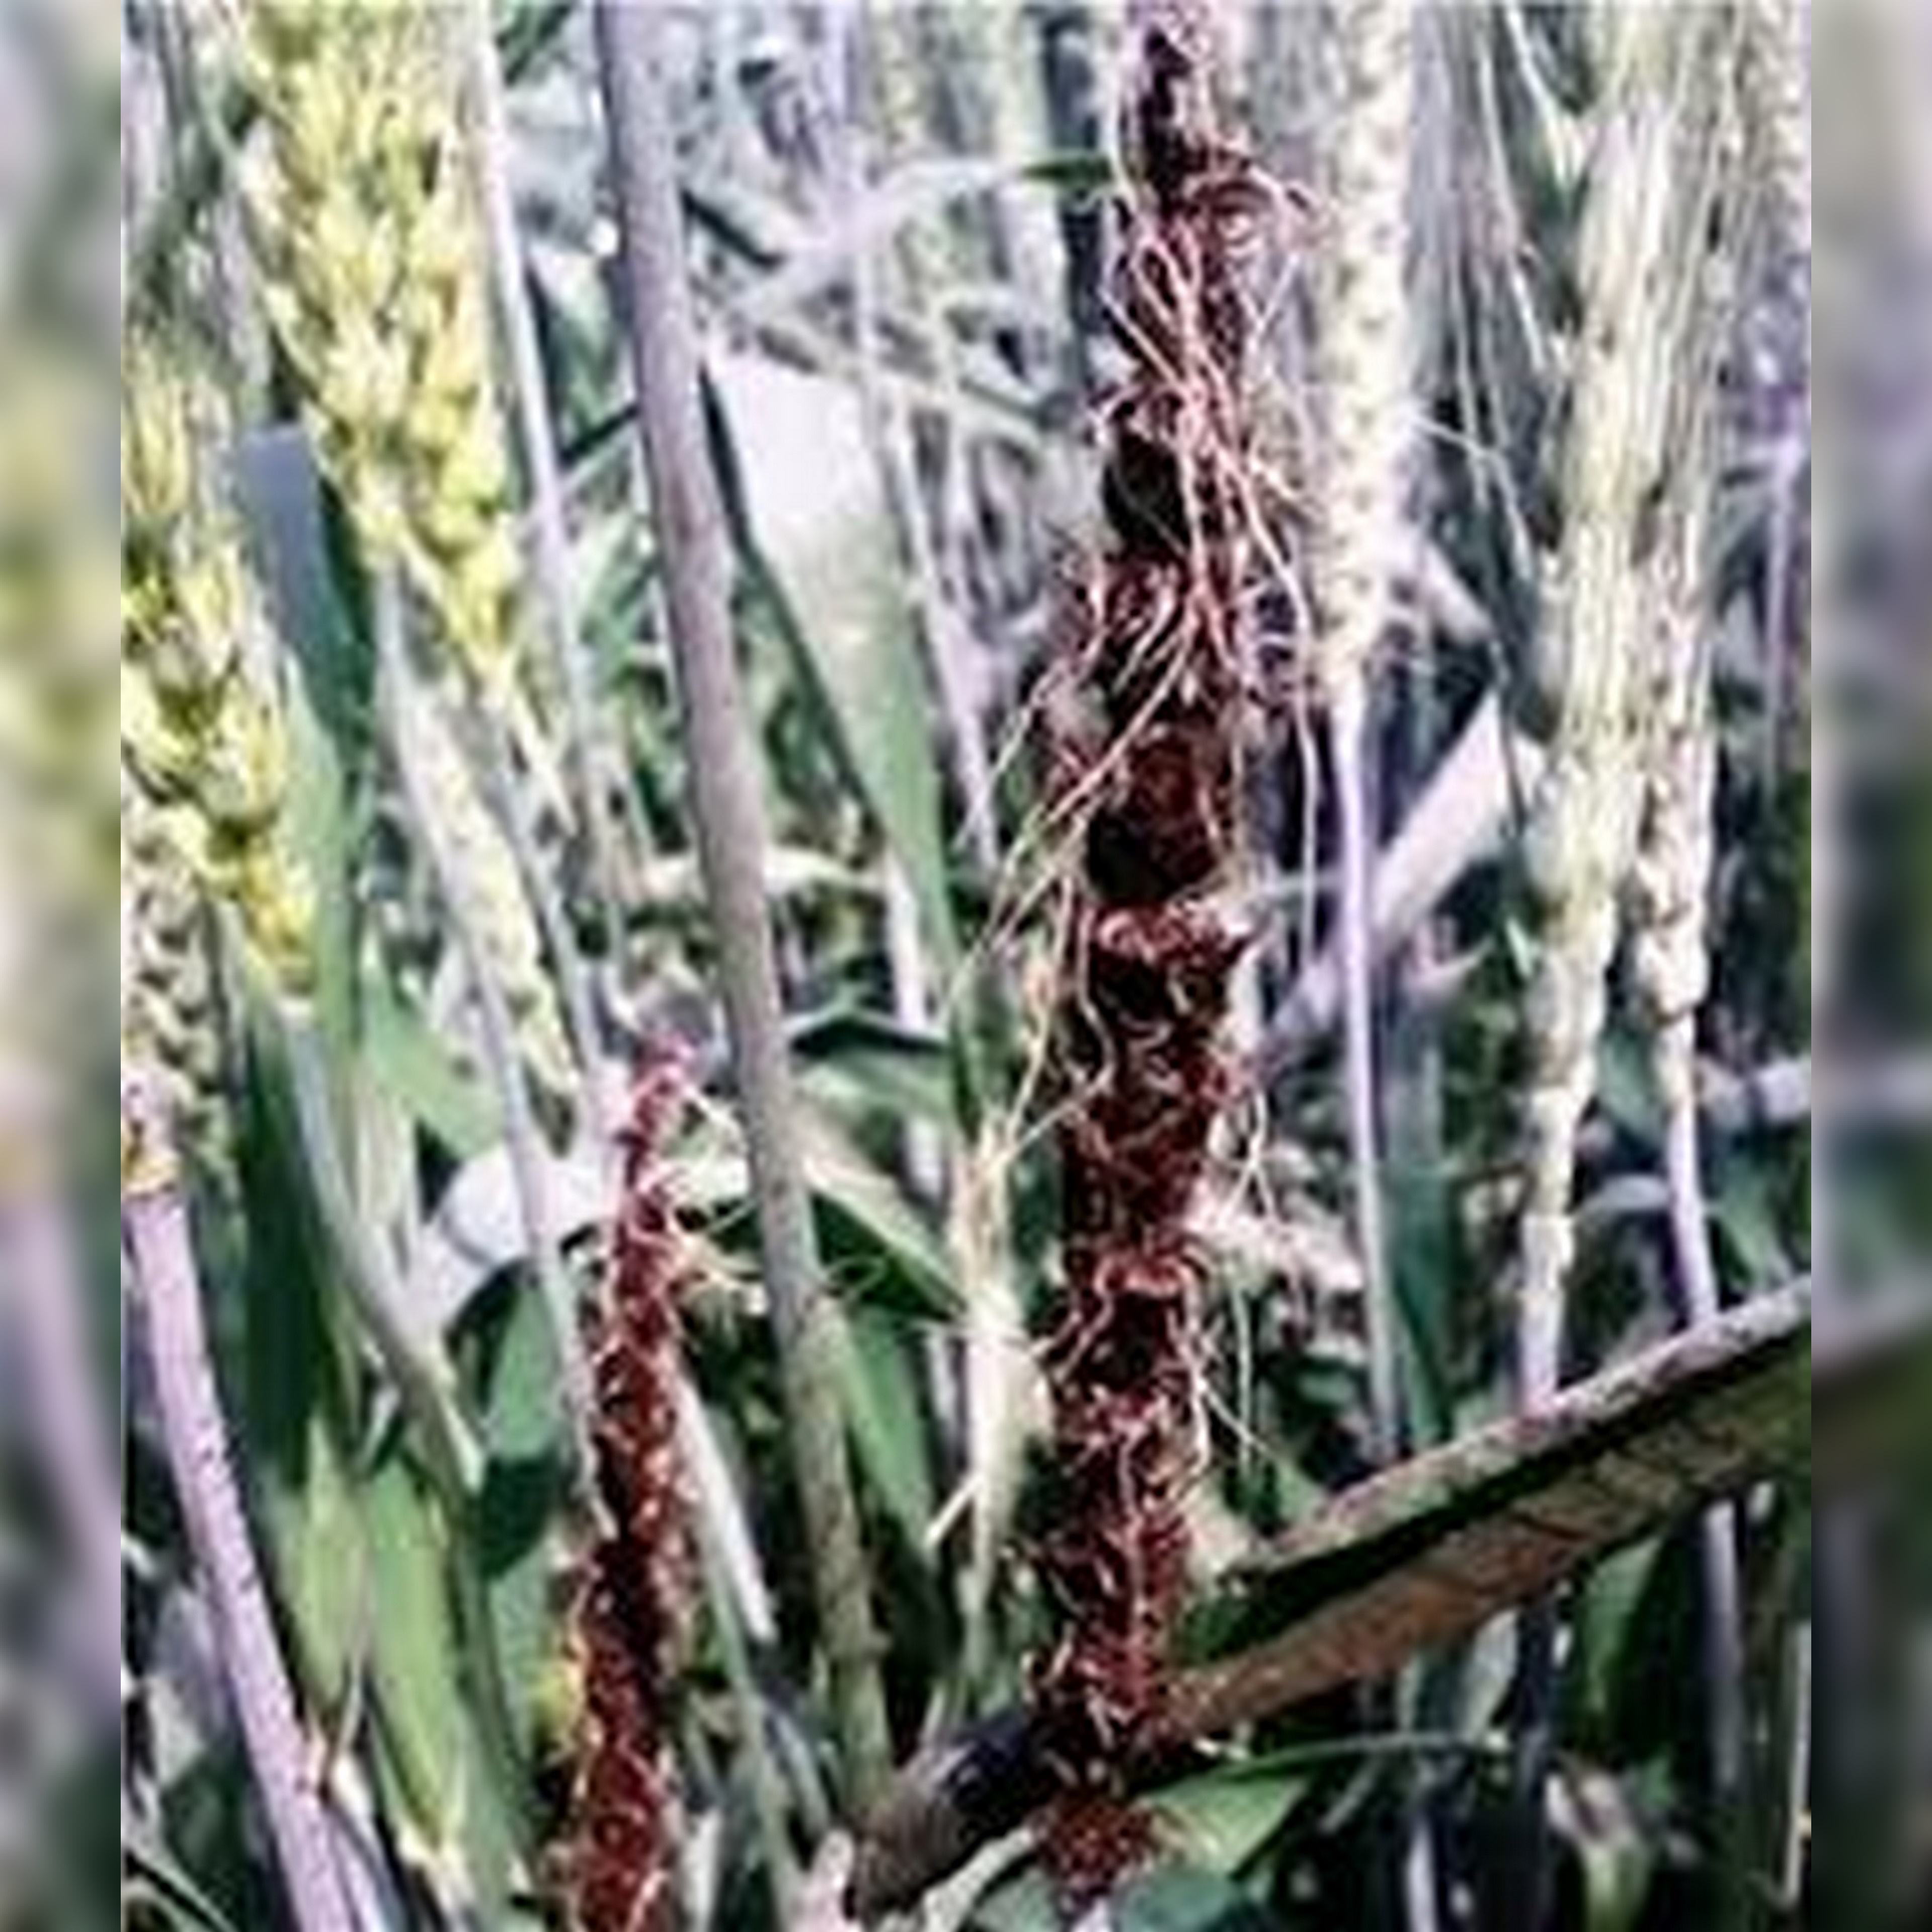Wheat Loose Smut: (936, 115, 1320, 1748), (504, 1028, 732, 1920)
